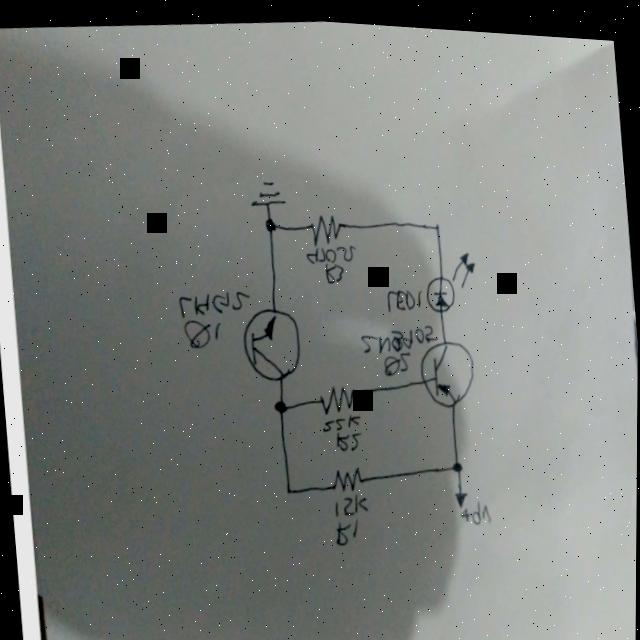diode: (420, 240, 479, 311)
ground: (245, 171, 288, 210)
junction: (271, 393, 288, 411), (261, 213, 278, 231), (449, 451, 463, 468), (282, 477, 295, 493), (429, 214, 442, 230)
resistor: (305, 203, 344, 246), (316, 377, 355, 414), (328, 458, 364, 491)
source: (452, 480, 470, 503)
text: (174, 279, 254, 351), (357, 311, 442, 377), (301, 235, 361, 285), (329, 485, 372, 546), (320, 405, 365, 452), (383, 277, 423, 310), (459, 490, 492, 520)
transistor: (237, 300, 304, 383), (414, 330, 479, 407)
